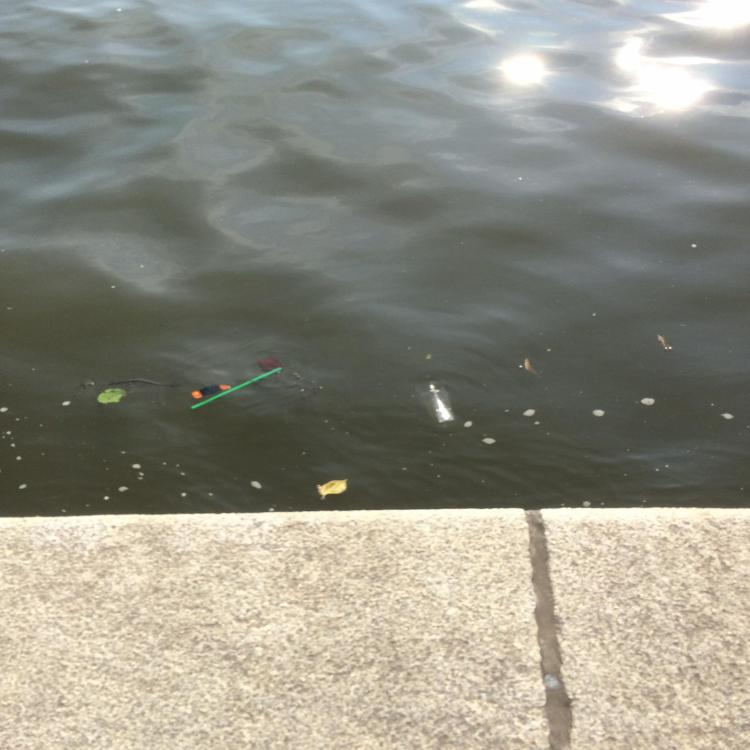Disposable plastic cup: (416, 381, 455, 425)
Other plastic wrapper: (191, 385, 231, 398)
Plastic straw: (190, 367, 283, 409)
